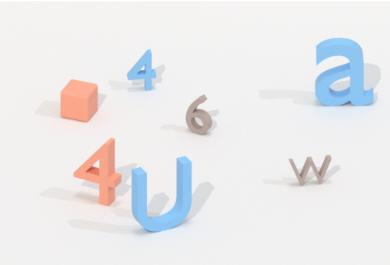0-KhoiVuong: (54, 74, 104, 125)
4: (69, 131, 125, 209), (123, 44, 158, 94)
6: (180, 89, 217, 138)
U: (124, 152, 201, 237)
W: (284, 148, 337, 192)
a: (308, 32, 378, 110)
